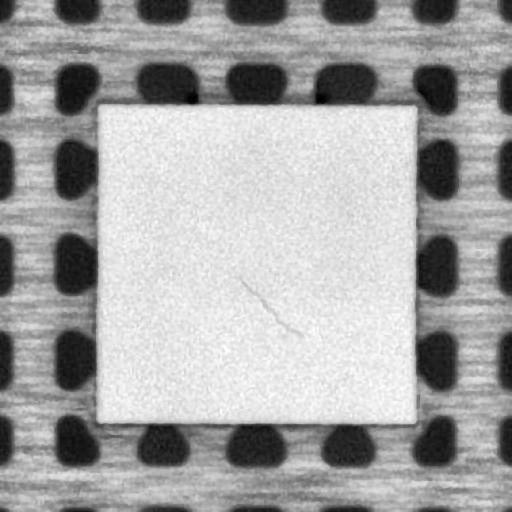DIE_CRACK: (237, 276, 302, 336)
